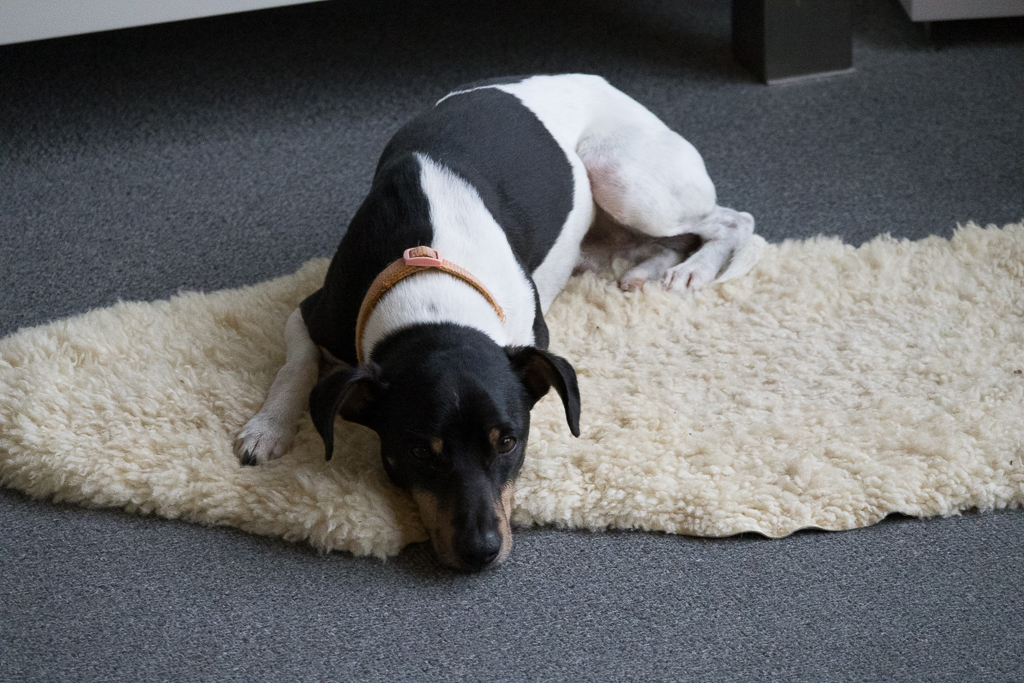Dog: (218, 62, 776, 593)
